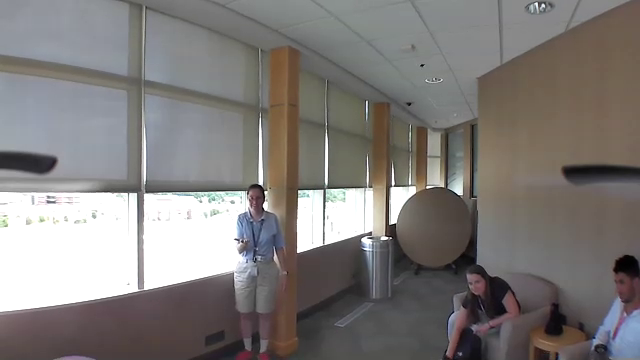land: (226, 232, 254, 248)
